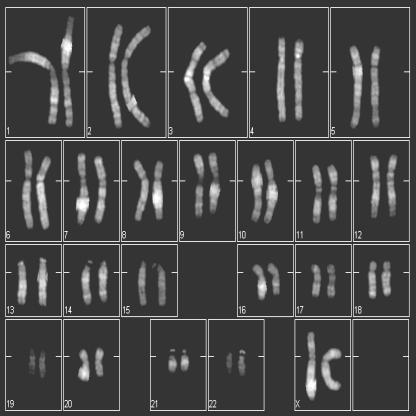1: (8, 50, 60, 126), (58, 16, 78, 128)
10: (264, 158, 278, 226), (250, 161, 262, 223)
11: (310, 163, 324, 225), (326, 162, 339, 224)
12: (368, 154, 380, 220), (386, 152, 398, 218)
13: (35, 255, 51, 306), (15, 260, 28, 307)
14: (80, 257, 94, 306), (98, 260, 110, 302)
15: (150, 260, 171, 308), (136, 258, 148, 308)
16: (250, 261, 268, 302), (266, 258, 281, 298)
17: (324, 259, 338, 300), (308, 261, 322, 300)
18: (366, 258, 378, 302), (381, 258, 393, 298)
19: (27, 346, 36, 376), (38, 348, 46, 380)
2: (121, 23, 155, 128), (108, 22, 124, 131)
20: (76, 348, 91, 384), (94, 344, 106, 380)
21: (164, 346, 178, 374), (178, 346, 190, 374)
22: (236, 346, 248, 377), (224, 351, 233, 373)
3: (202, 49, 232, 119), (182, 40, 206, 124)
4: (276, 35, 288, 124), (293, 38, 304, 122)
5: (348, 43, 364, 130), (370, 44, 382, 128)
6: (36, 155, 52, 232), (21, 148, 34, 231)
7: (92, 154, 110, 224), (76, 152, 90, 228)
8: (130, 158, 151, 222), (150, 157, 166, 221)
9: (206, 151, 222, 218), (190, 152, 204, 221)
X: (303, 329, 320, 403), (321, 346, 343, 394)
